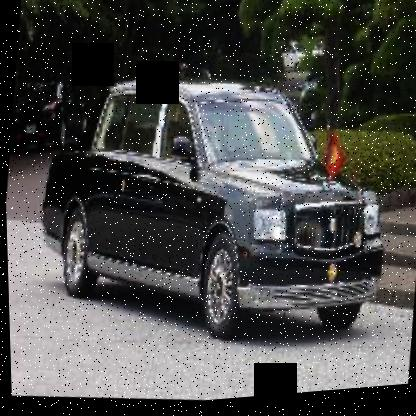not_emergency: (33, 51, 415, 383)
